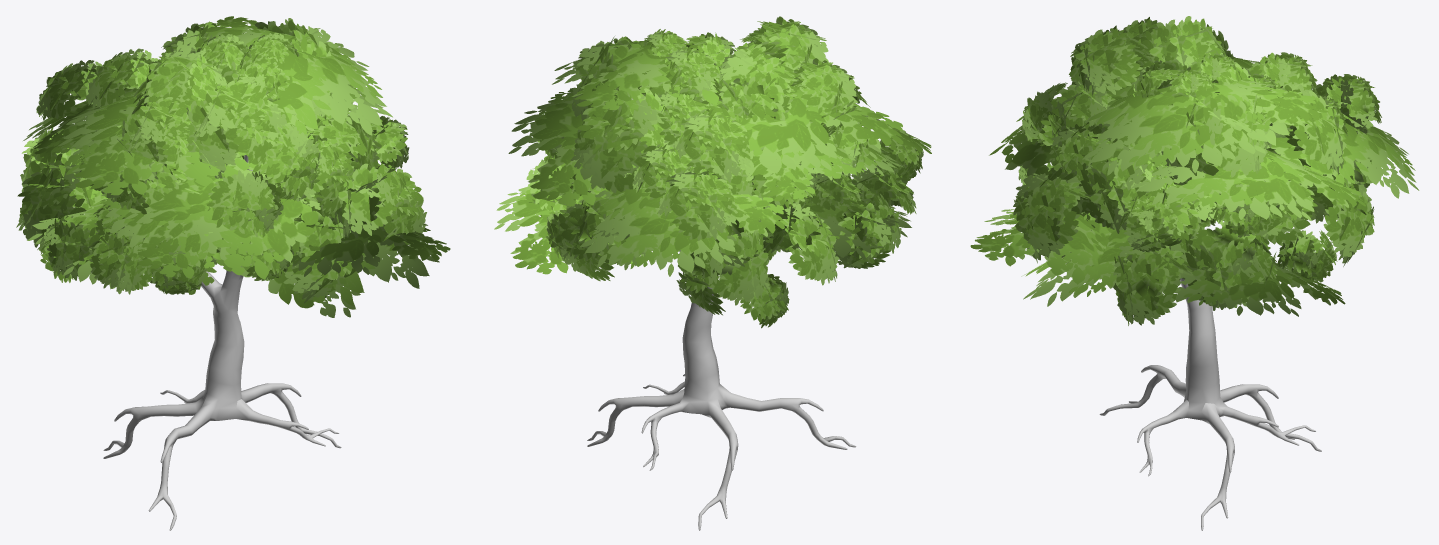
Rendered from tree.fbx.
3 views of the same model, side by side, from view 1: azimuth 30°, elevation 25°; view 2: azimuth 150°, elevation 25°; view 3: azimuth 270°, elevation 25° (orthographic). The views are drawn at different scales.
Parts seen in each view (by area): view 1: Leaves, Tree_Trunk; view 2: Leaves, Tree_Trunk; view 3: Leaves, Tree_Trunk.
Part boxes in pixels (x1=…): Leaves: x1=16, y1=16, x2=450, y2=317; Tree_Trunk: x1=103, y1=155, x2=341, y2=530; Leaves: x1=494, y1=16, x2=931, y2=328; Tree_Trunk: x1=587, y1=98, x2=856, y2=530; Leaves: x1=970, y1=16, x2=1419, y2=325; Tree_Trunk: x1=1090, y1=265, x2=1321, y2=530.
Size of the model in its own units: 953 by 1073 by 1021.
